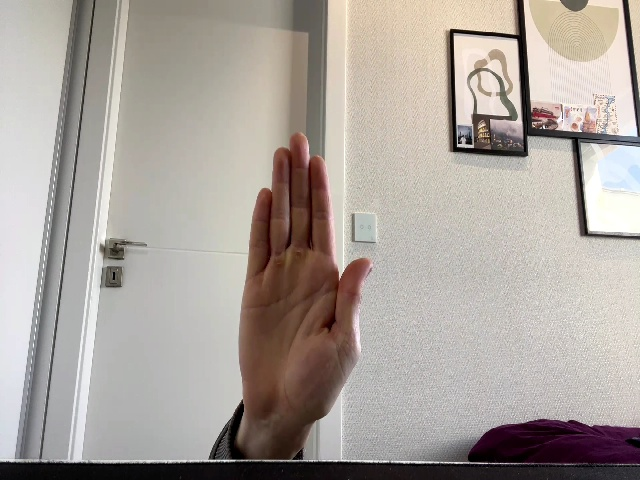B: (239, 133, 373, 422)
